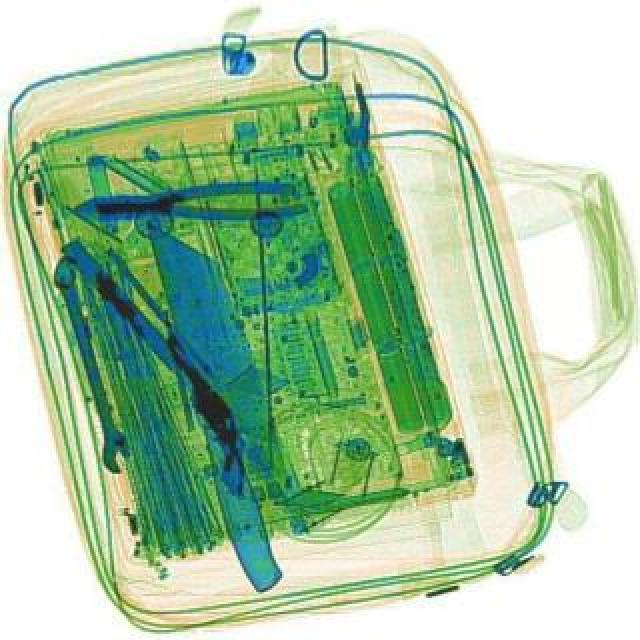knife: (144, 210, 300, 598)
scissors: (46, 252, 136, 474)
wrench: (68, 178, 306, 226)
